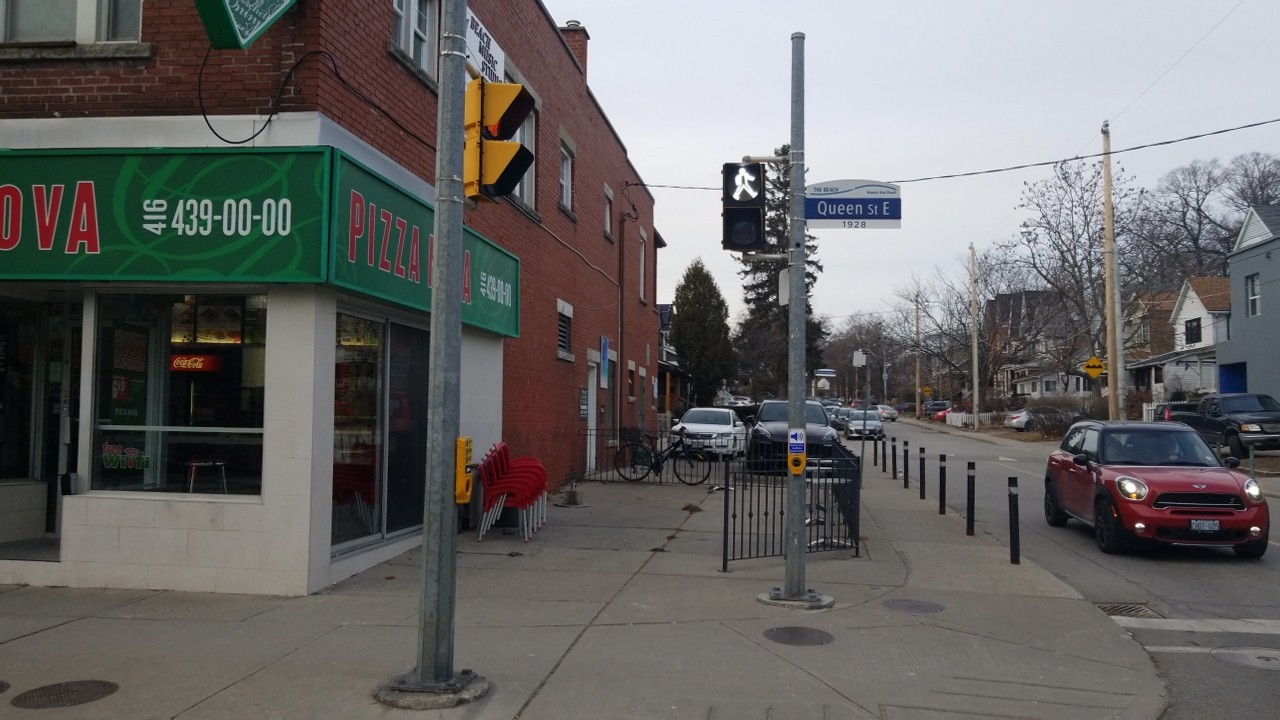light: (716, 157, 772, 255)
